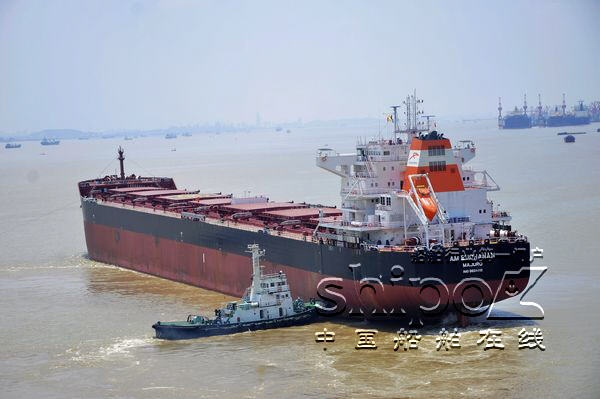Cargoship: (66, 91, 538, 312)
otherboat: (150, 245, 325, 345)
